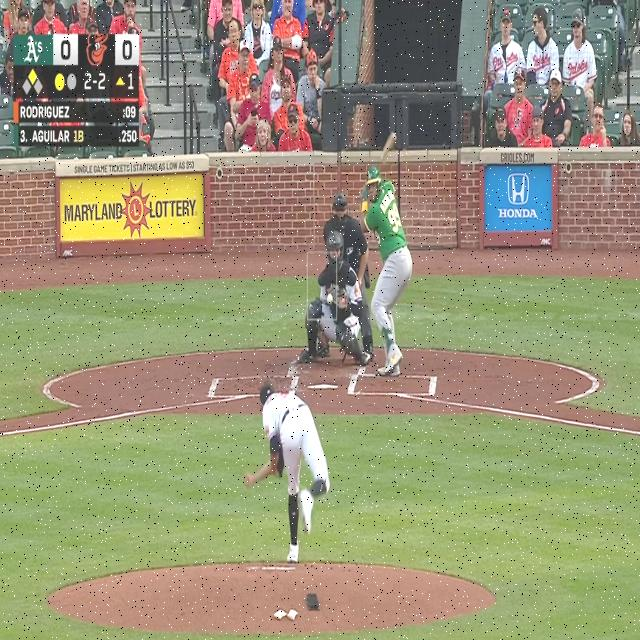baseball: (326, 293, 333, 304)
